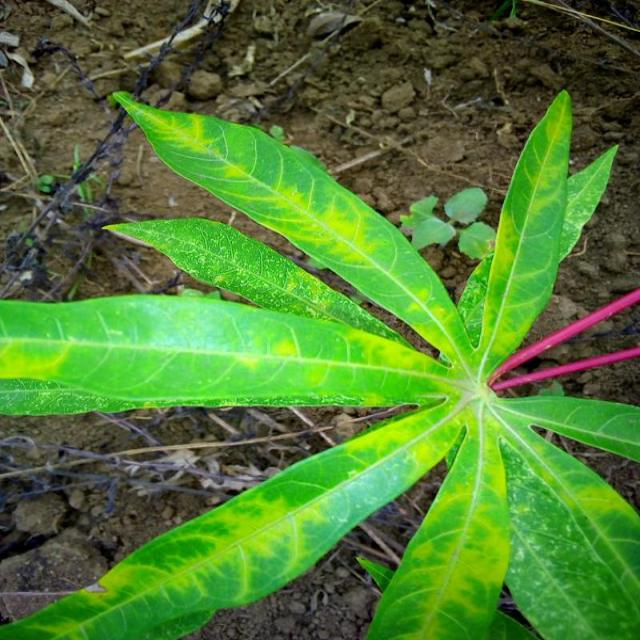cassava leaf: (1, 86, 638, 638), (108, 89, 474, 374)
